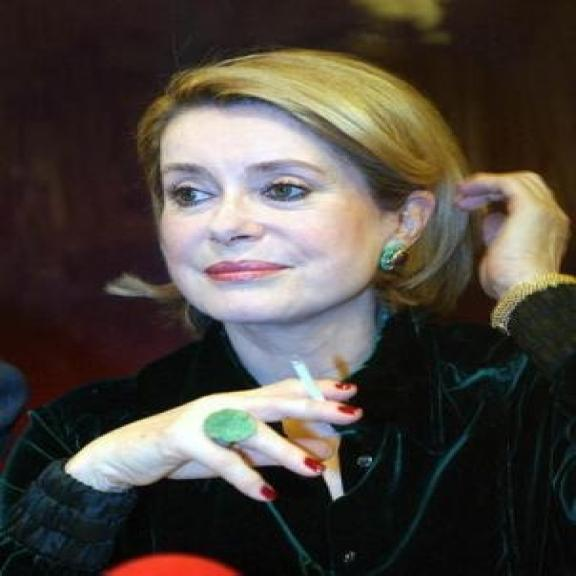face: (158, 102, 443, 329)
